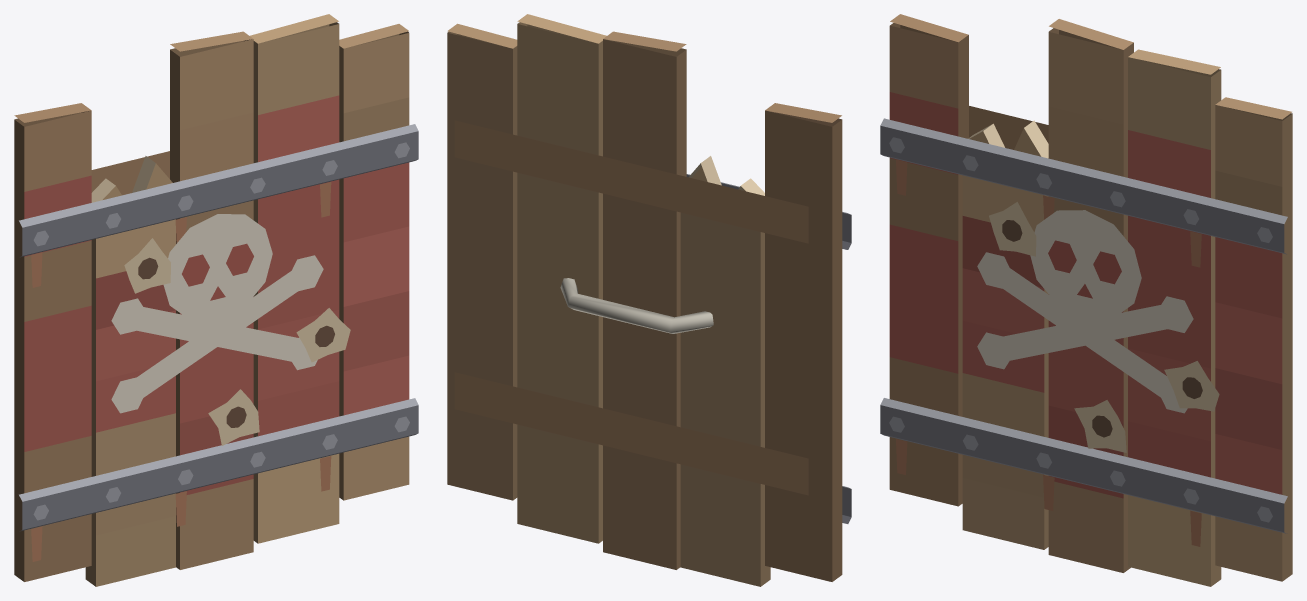
The model's file is shield_shot.glb.
3 renders of one model, left to right at view 1: azimuth 30°, elevation 25°; view 2: azimuth 150°, elevation 25°; view 3: azimuth 330°, elevation 25°, orthographic.
Parts seen in each view (by area): view 1: shield_shot; view 2: shield_shot; view 3: shield_shot.
Part boxes in pixels (x1,y1,x2,y2): shield_shot: (14, 14, 418, 586); shield_shot: (447, 14, 851, 586); shield_shot: (880, 14, 1292, 586).
Bounding box in the file's own units: 1.12 × 1.4 × 0.1744.
